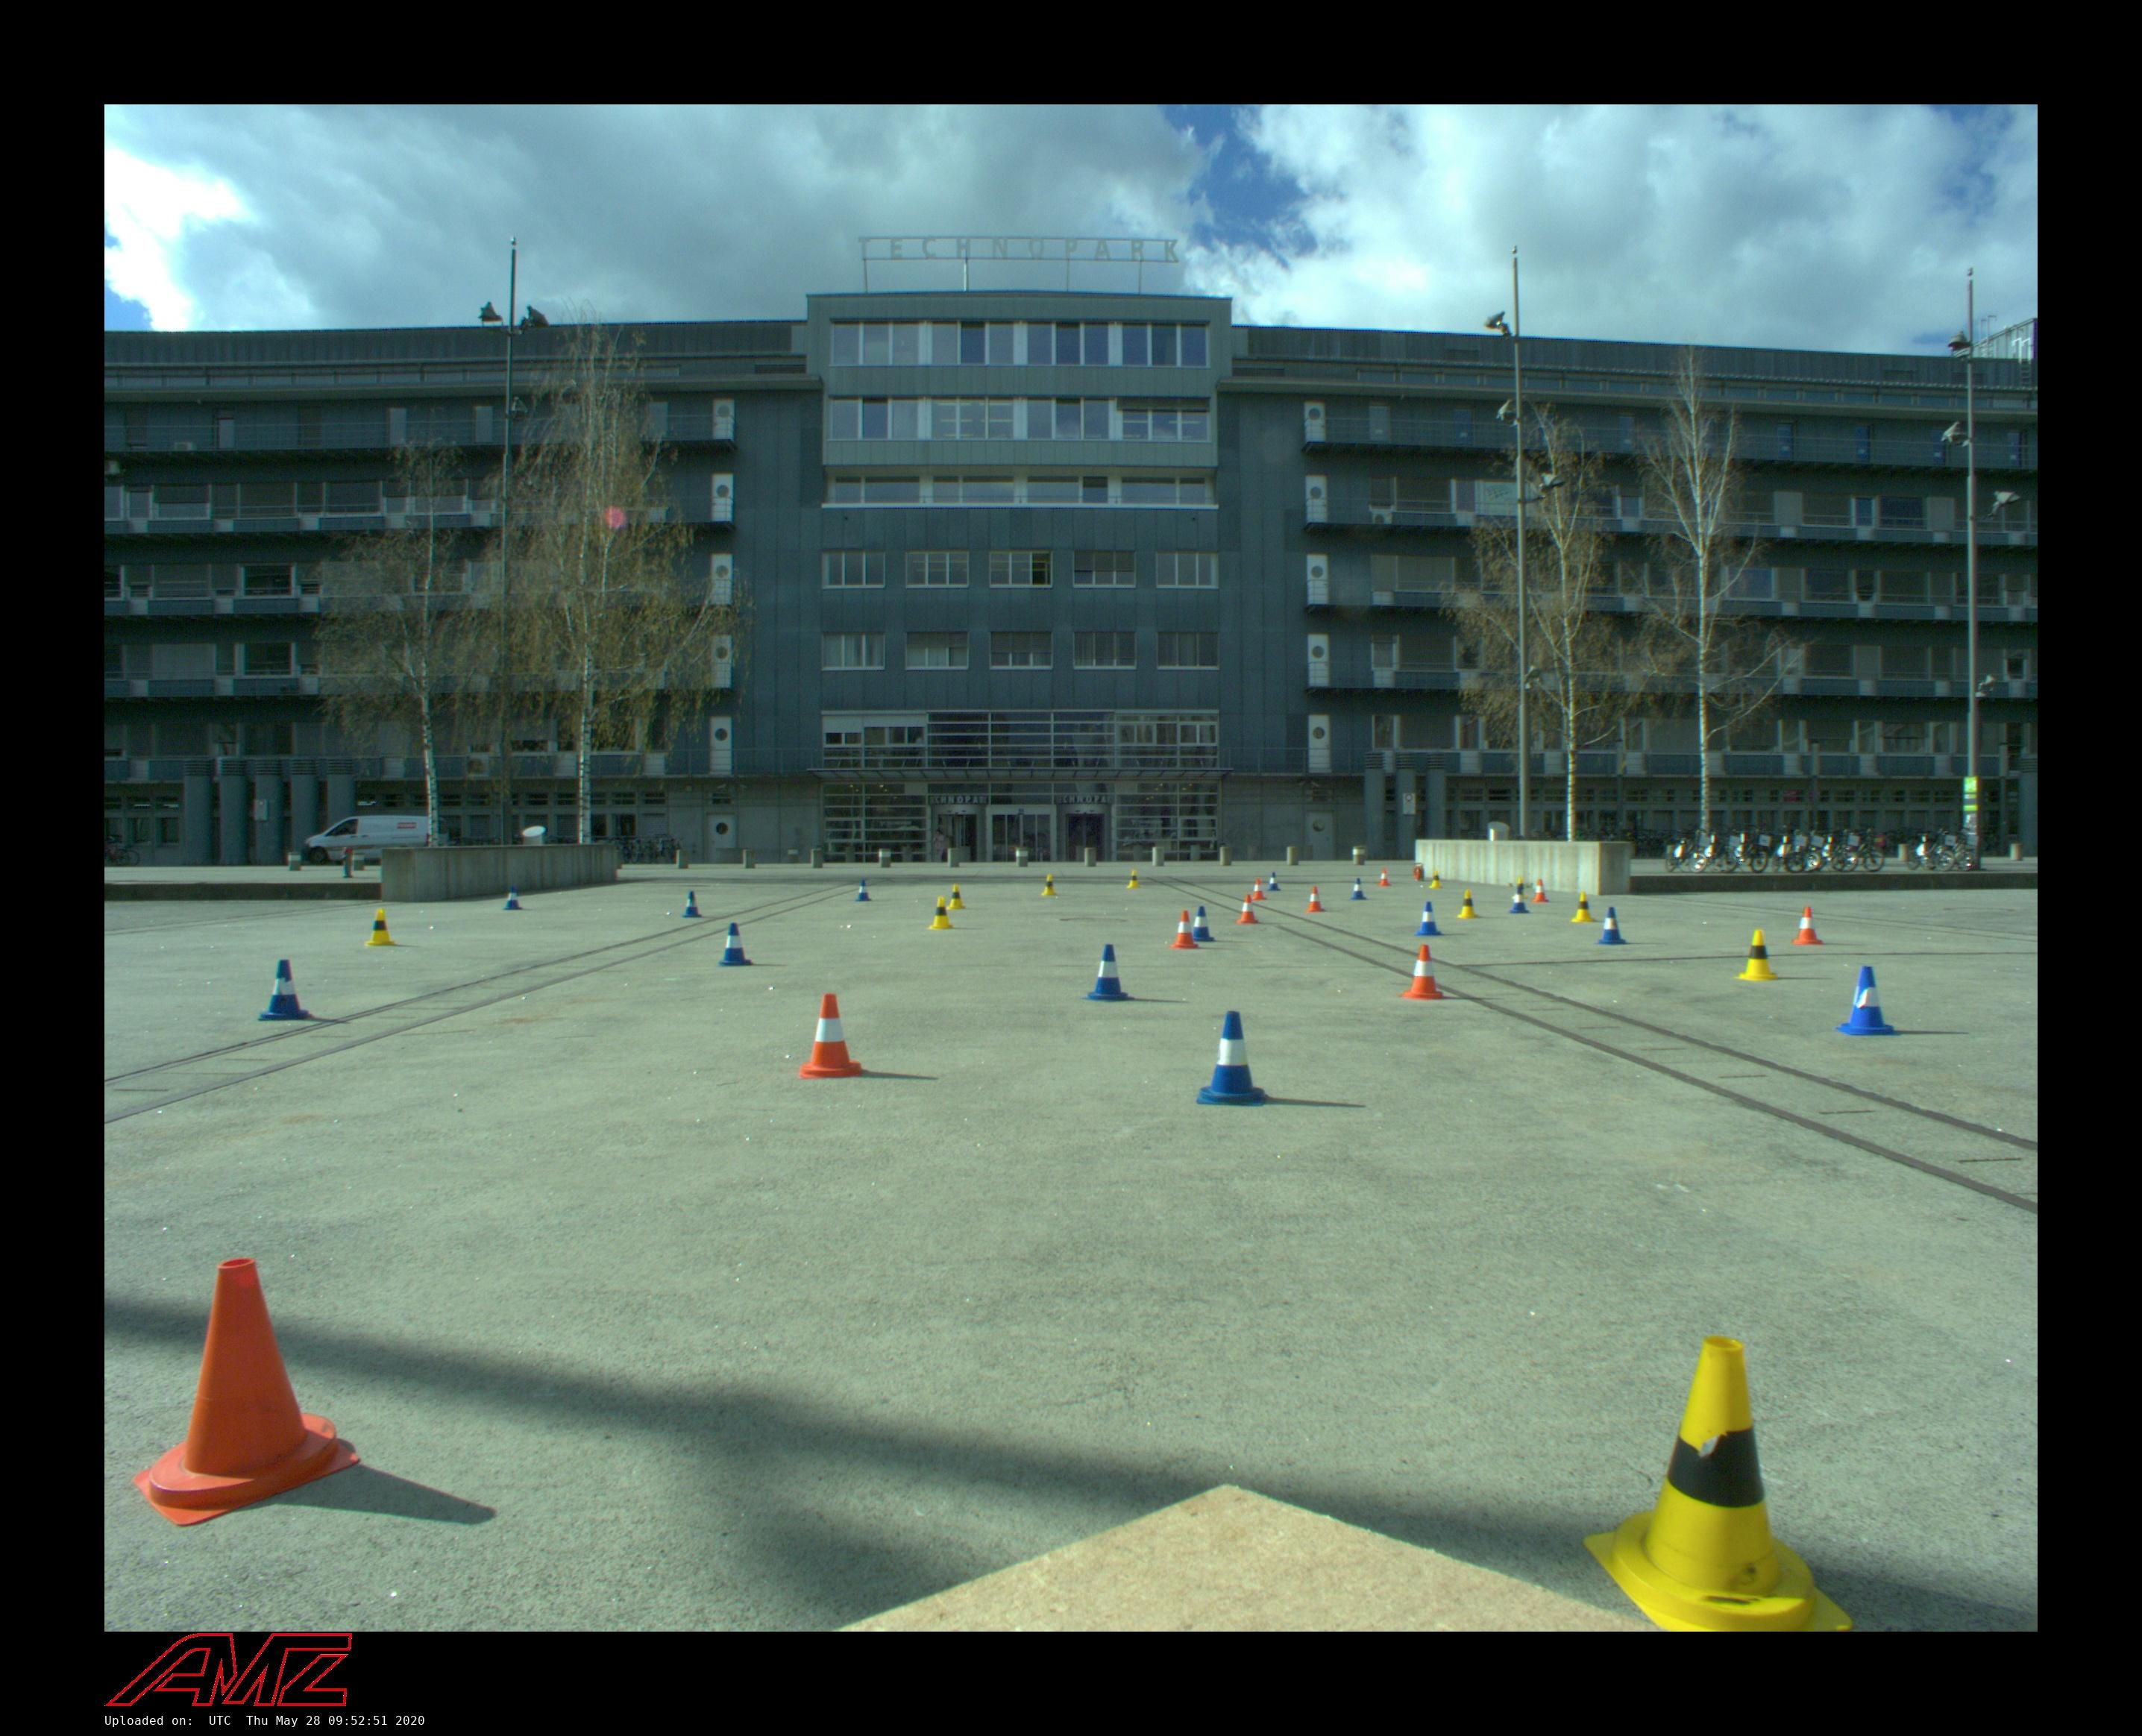blue_cone: (1196, 1010, 1269, 1105), (1834, 964, 1901, 1035), (259, 958, 312, 1020), (1081, 942, 1134, 1001), (719, 923, 751, 965), (1595, 905, 1628, 944), (1414, 902, 1442, 935), (1192, 905, 1215, 941), (1508, 886, 1529, 914), (503, 886, 524, 911), (684, 891, 703, 918), (854, 879, 872, 902), (1350, 877, 1368, 900), (1267, 872, 1281, 891)
orange_cone: (129, 1258, 361, 1527), (799, 994, 863, 1079), (1396, 944, 1446, 999), (1168, 911, 1199, 949), (1791, 905, 1823, 944), (1235, 895, 1260, 925), (1308, 886, 1327, 912), (1531, 879, 1550, 902), (1251, 877, 1267, 900), (1378, 868, 1393, 886)
yellow_cone: (1580, 1332, 1851, 1631), (1733, 930, 1781, 981), (365, 907, 397, 946), (928, 896, 953, 930), (1572, 891, 1596, 923), (1458, 889, 1481, 919), (946, 884, 967, 911), (1509, 877, 1529, 900), (1042, 873, 1058, 896), (1430, 870, 1444, 889), (1127, 870, 1141, 887)
